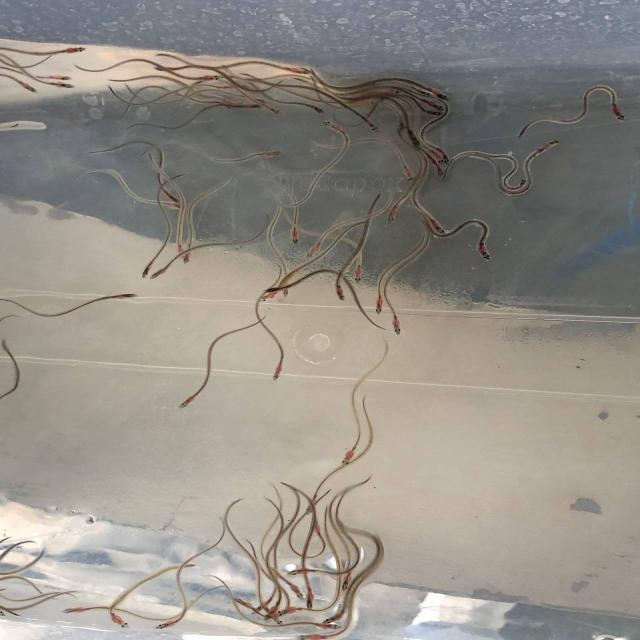glass_eel: (284, 580, 306, 604), (274, 62, 316, 74), (255, 146, 288, 160), (472, 242, 494, 262), (48, 79, 77, 94), (40, 69, 71, 83), (178, 393, 202, 411), (102, 614, 132, 628), (422, 109, 453, 122), (397, 160, 417, 180), (407, 132, 425, 154), (429, 101, 455, 116), (274, 604, 304, 617), (257, 102, 281, 118), (230, 594, 253, 610), (320, 612, 348, 625), (262, 286, 282, 304), (269, 361, 287, 381), (302, 589, 318, 611), (148, 263, 170, 279), (537, 139, 564, 152), (149, 64, 184, 74), (338, 448, 355, 468), (607, 105, 628, 121), (430, 222, 455, 235), (430, 159, 448, 177), (285, 566, 312, 578), (432, 88, 452, 104), (18, 84, 42, 97), (304, 497, 318, 519), (61, 46, 95, 55), (332, 284, 350, 301), (340, 573, 356, 592), (305, 103, 330, 115), (351, 94, 381, 104), (306, 242, 321, 262), (151, 619, 174, 632), (363, 119, 384, 133), (375, 87, 404, 97), (385, 204, 401, 222), (288, 224, 302, 244), (349, 264, 363, 284), (316, 621, 344, 631), (320, 120, 343, 132), (264, 285, 287, 297), (160, 191, 185, 202), (439, 148, 456, 164), (281, 278, 296, 296), (390, 313, 401, 337), (113, 292, 137, 303), (172, 240, 184, 262), (268, 611, 288, 624), (431, 150, 447, 166), (181, 246, 194, 265), (401, 166, 416, 182), (251, 601, 271, 613), (198, 74, 223, 83), (240, 95, 268, 103), (514, 179, 530, 193), (312, 520, 325, 537), (62, 606, 84, 616), (238, 104, 262, 113), (139, 258, 149, 278), (372, 300, 384, 315), (158, 203, 182, 210), (0, 610, 8, 616)
